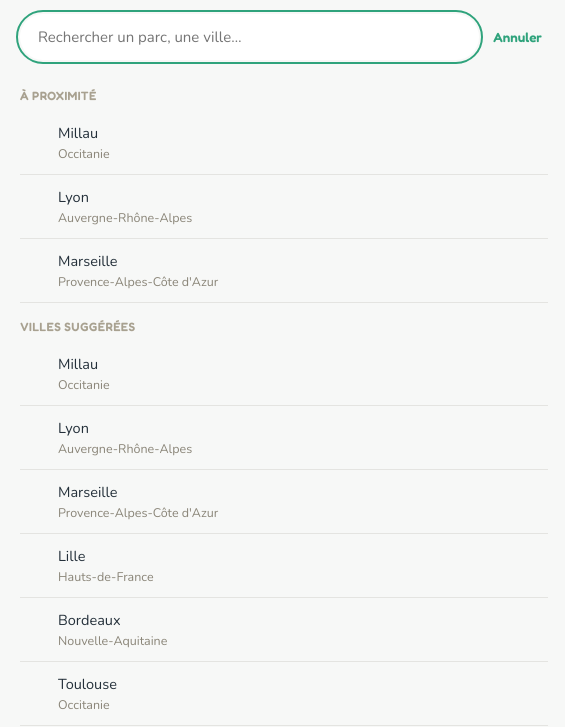
Test case: SearchOverlay — ordre des sections › park-oriented query (no exact place name) keeps PARCS first
Step 1. Type "Parc de la Ramée" into the field with placeholder "Rechercher un parc, une ville…" → coordinates (250, 37), box [20,14,479,60]
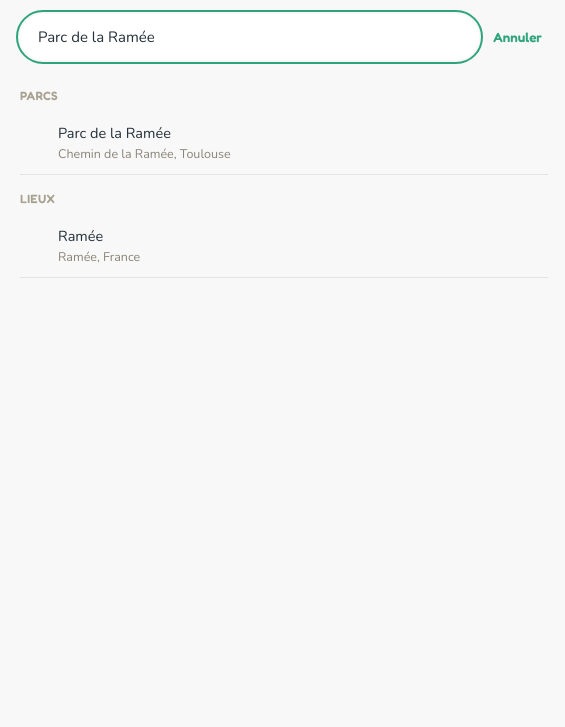
Now the text "Chemin de la Ramée, Toulouse" is shown, box [58,145,231,162]
Now the text "Ramée, France" is shown, box [58,248,140,265]
